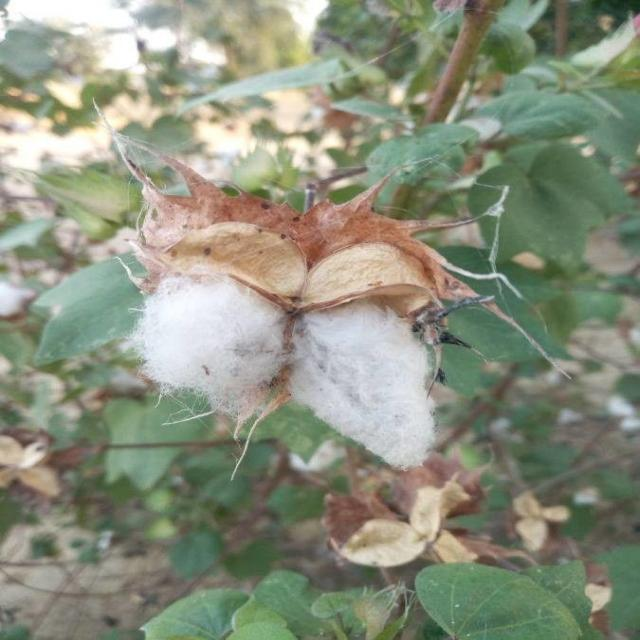Early_blight: (129, 221, 455, 471)
